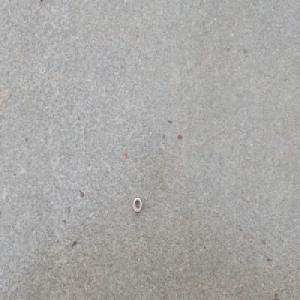Nut: (132, 196, 142, 213)
